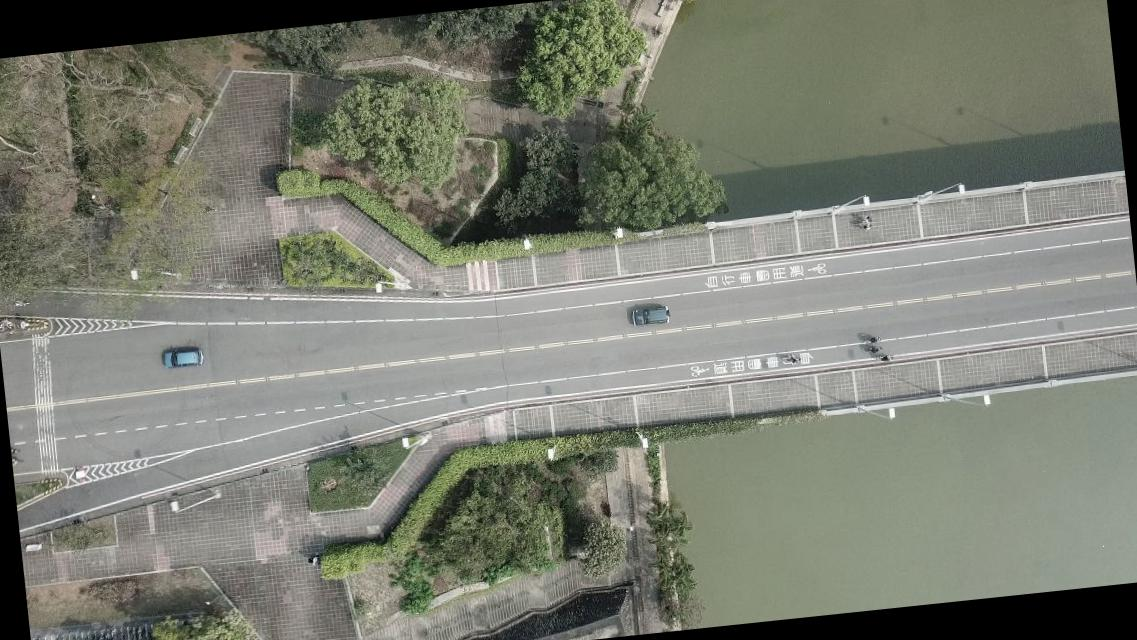vehicle: (160, 344, 204, 368), (630, 304, 671, 326)
